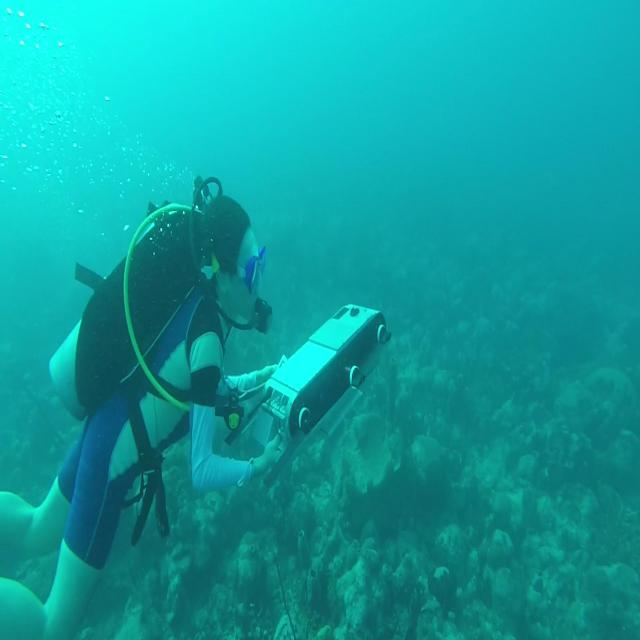human: (0, 173, 286, 638)
